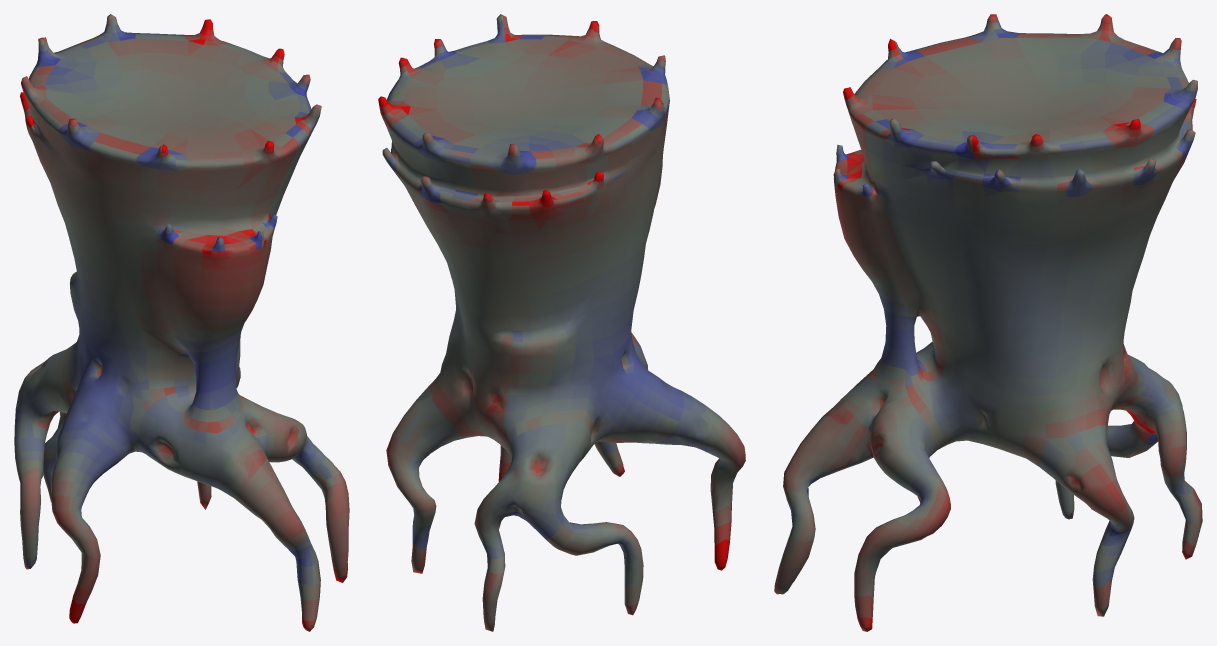
File: sav_fungus_med_06.fbx
3 views of the same model, side by side, from view 1: azimuth 30°, elevation 25°; view 2: azimuth 150°, elevation 25°; view 3: azimuth 270°, elevation 25° (orthographic). The views are drawn at different scales.
Parts seen in each view (by area): view 1: sav_fungus_med_06_LOD0; view 2: sav_fungus_med_06_LOD0; view 3: sav_fungus_med_06_LOD0.
Part boxes in pixels (x1=…): sav_fungus_med_06_LOD0: x1=14, y1=14, x2=349, y2=631; sav_fungus_med_06_LOD0: x1=378, y1=14, x2=745, y2=631; sav_fungus_med_06_LOD0: x1=774, y1=14, x2=1202, y2=631.
Size of what is drawn, in the model's own units: 6.95 by 8.48 by 11.26.
